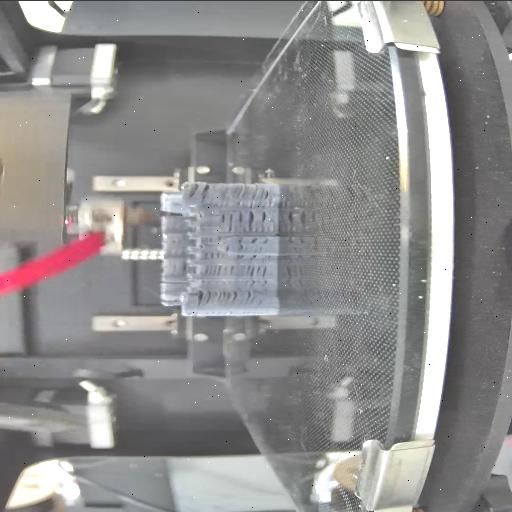cracks: (196, 287, 258, 305), (238, 210, 273, 232), (238, 184, 270, 206), (190, 179, 208, 203), (204, 264, 235, 276), (245, 264, 271, 278), (218, 212, 236, 232), (249, 234, 275, 244), (232, 236, 248, 252), (236, 254, 272, 260), (202, 252, 224, 260), (249, 278, 269, 286), (180, 258, 188, 278), (202, 236, 222, 244)
